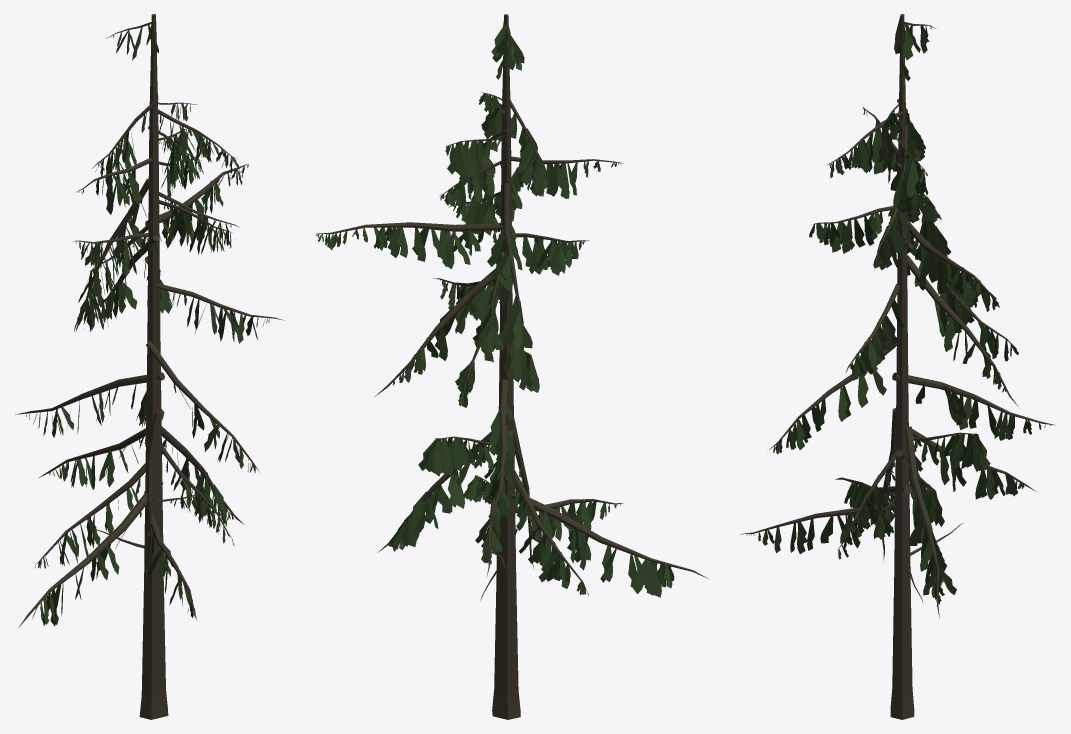
The model's file is fir_alive.fbx.
3 views of the same model, side by side, from view 1: azimuth 30°, elevation 25°; view 2: azimuth 150°, elevation 25°; view 3: azimuth 270°, elevation 25° (orthographic).
Visible parts, largest first — view 1: Cube; view 2: Cube; view 3: Cube.
Boxes of the visible parts, x1,y1,x2,y2 form: Cube: (15,14,283,719); Cube: (316,14,709,719); Cube: (740,14,1055,719).
Size of the model in its own units: 2675 by 3056 by 6492.
